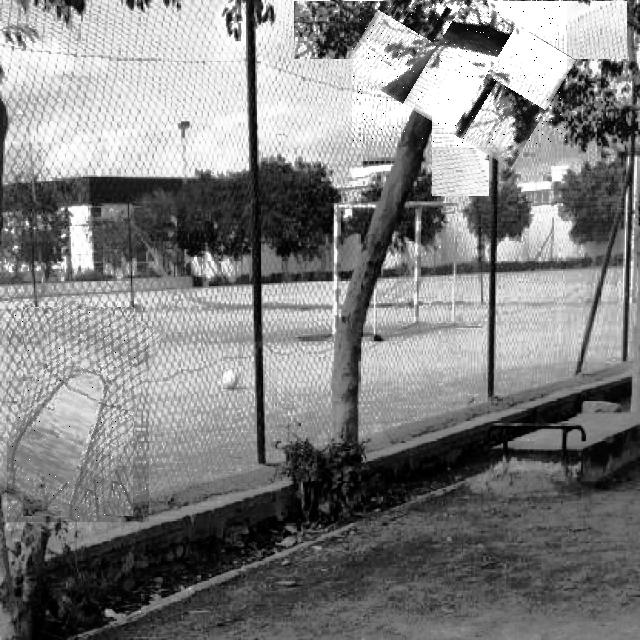anomaly-fence: (352, 0, 567, 147), (7, 301, 149, 522)
